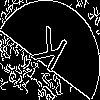K: (25, 25, 70, 83)
